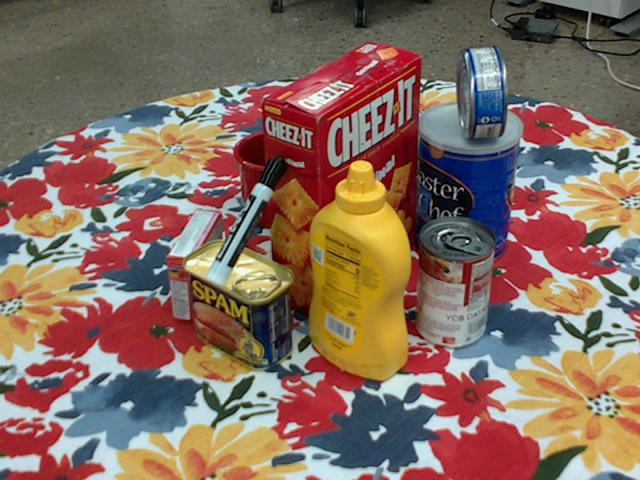cracker_box: (261, 42, 422, 320)
gelatin_box: (167, 208, 223, 321)
large_marker: (205, 154, 287, 285)
master_chef_can: (415, 101, 521, 268)
mug: (234, 129, 338, 230)
mustard_bottle: (309, 160, 412, 381)
potted_meat_can: (183, 239, 294, 371)
sugar_box: (283, 91, 445, 198)
tomato_soup_can: (415, 216, 496, 349)
tuna_fish_can: (455, 45, 508, 138)
